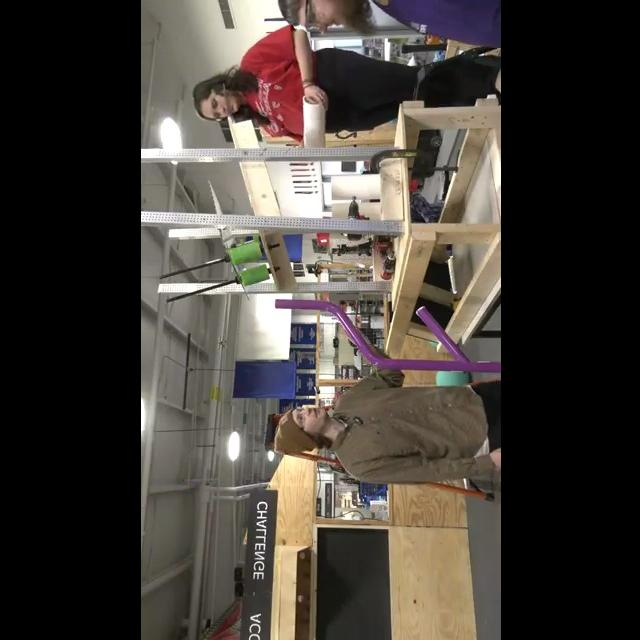CORAL: (300, 94, 324, 148), (330, 175, 380, 199), (330, 203, 380, 220)
